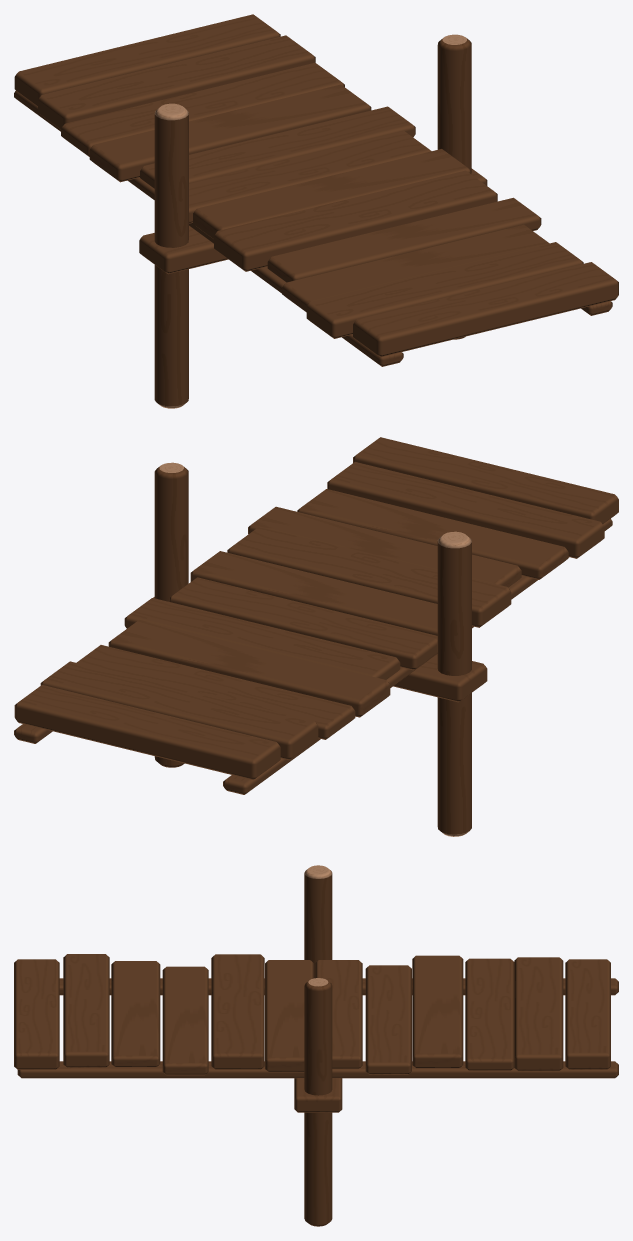
File: M_Small_Long_2.fbx
The picture shows the model from 3 angles, top to bottom: view 1: azimuth 30°, elevation 25°; view 2: azimuth 150°, elevation 25°; view 3: azimuth 270°, elevation 25°; orthographic projection. The views are drawn at different scales.
Parts seen in each view (by area): view 1: M_Small_Long_2; view 2: M_Small_Long_2; view 3: M_Small_Long_2.
Boxes of the visible parts, x1,y1,x2,y2 form: M_Small_Long_2: (14,14,618,408); M_Small_Long_2: (14,437,618,836); M_Small_Long_2: (14,865,618,1226).
Size of the model in its own units: 400 by 348 by 795.
